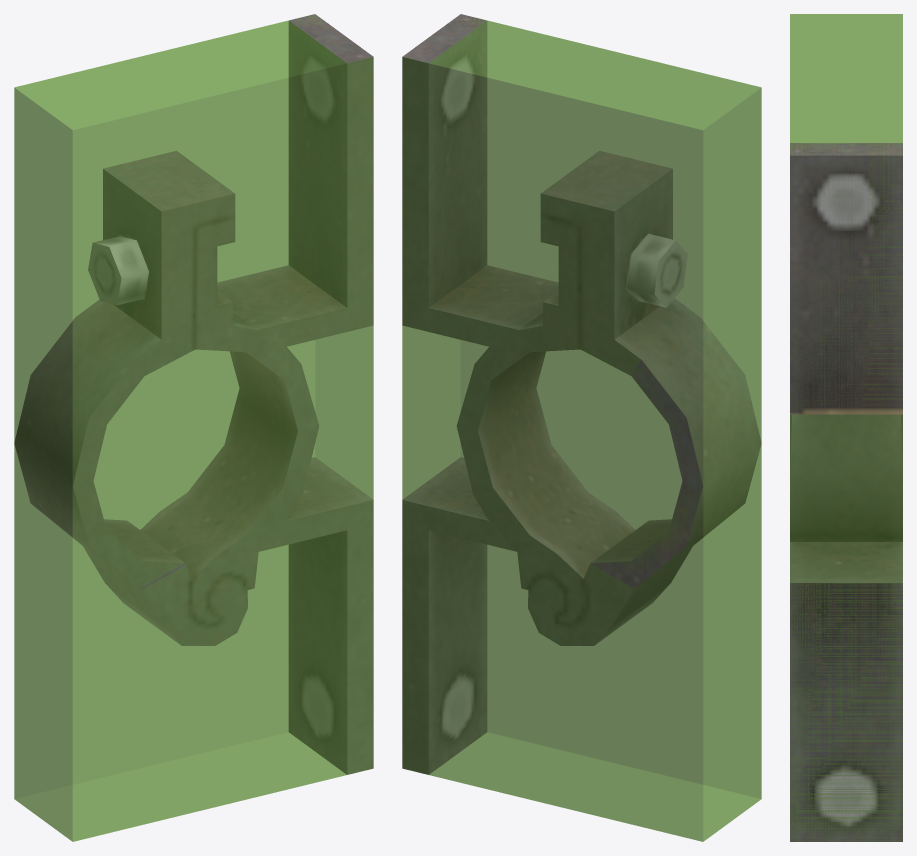
Rendered from p_PipeMount_01_a.fbx.
The picture shows the model from 3 angles, left to right: view 1: azimuth 30°, elevation 25°; view 2: azimuth 150°, elevation 25°; view 3: azimuth 270°, elevation 25°; orthographic projection. The views are drawn at different scales.
Visible parts, largest first — view 1: p_PipeMount_01_a_col_01, p_PipeMount_01_a_LOD0; view 2: p_PipeMount_01_a_col_01, p_PipeMount_01_a_LOD0; view 3: p_PipeMount_01_a_LOD0, p_PipeMount_01_a_col_01.
Part boxes in pixels (x1,y1,x2,y2): p_PipeMount_01_a_col_01: [14, 14, 373, 841]; p_PipeMount_01_a_LOD0: [14, 14, 373, 774]; p_PipeMount_01_a_col_01: [402, 15, 761, 841]; p_PipeMount_01_a_LOD0: [402, 14, 761, 774]; p_PipeMount_01_a_LOD0: [790, 143, 902, 841]; p_PipeMount_01_a_col_01: [790, 14, 902, 841].
Size of what is drawn, in the model's own units: 3.82 by 8.62 by 1.29.
